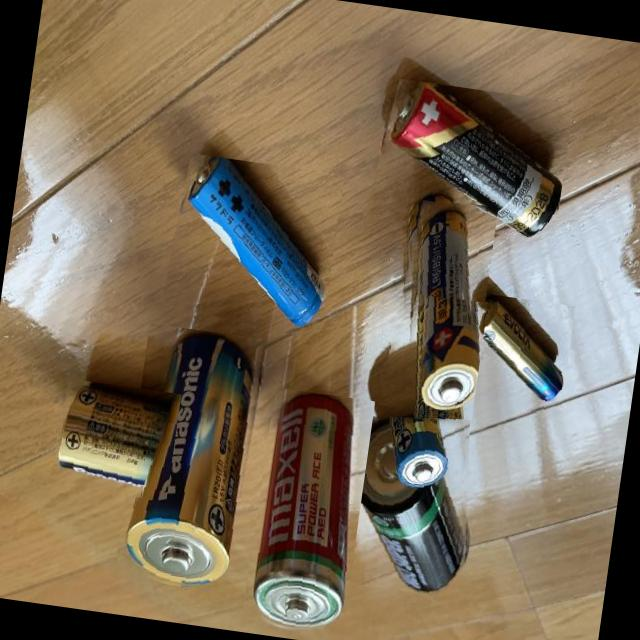Hazard: (113, 322, 272, 598), (364, 75, 572, 246), (158, 150, 344, 340), (239, 386, 374, 639), (346, 404, 488, 598), (377, 191, 498, 416), (375, 289, 487, 492), (48, 377, 181, 502), (450, 290, 574, 415)
